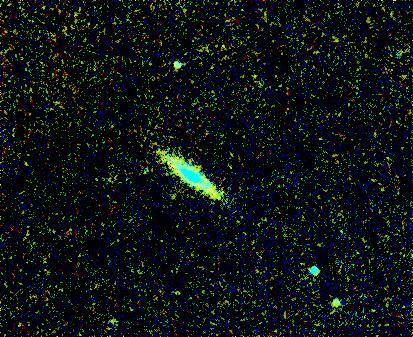star: (321, 286, 351, 316)
